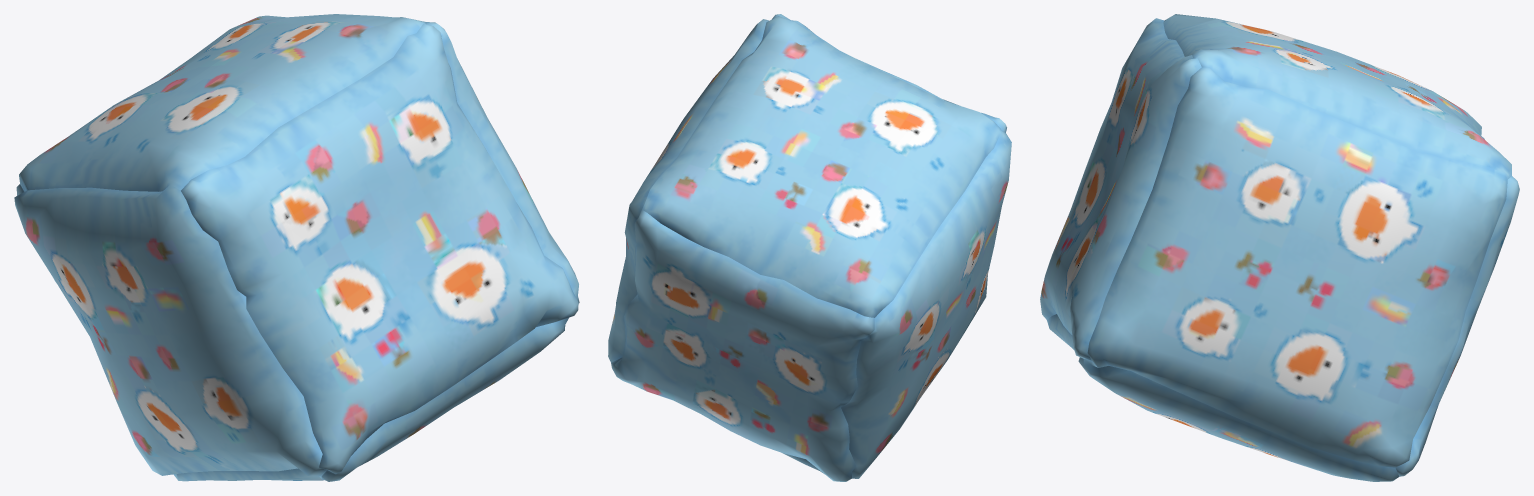
Rendered from GTSandbag.obj.
The picture shows the model from 3 angles, left to right: view 1: azimuth 30°, elevation 25°; view 2: azimuth 150°, elevation 25°; view 3: azimuth 270°, elevation 25°; orthographic projection. The views are drawn at different scales.
Visible parts, largest first — view 1: shabao; view 2: shabao; view 3: shabao.
Part boxes in pixels (x1,y1,x2,y2): shabao: [14, 14, 579, 481]; shabao: [608, 14, 1011, 481]; shabao: [1040, 14, 1519, 481].
Size of the model in its own units: 1.5 by 1.74 by 1.65.
